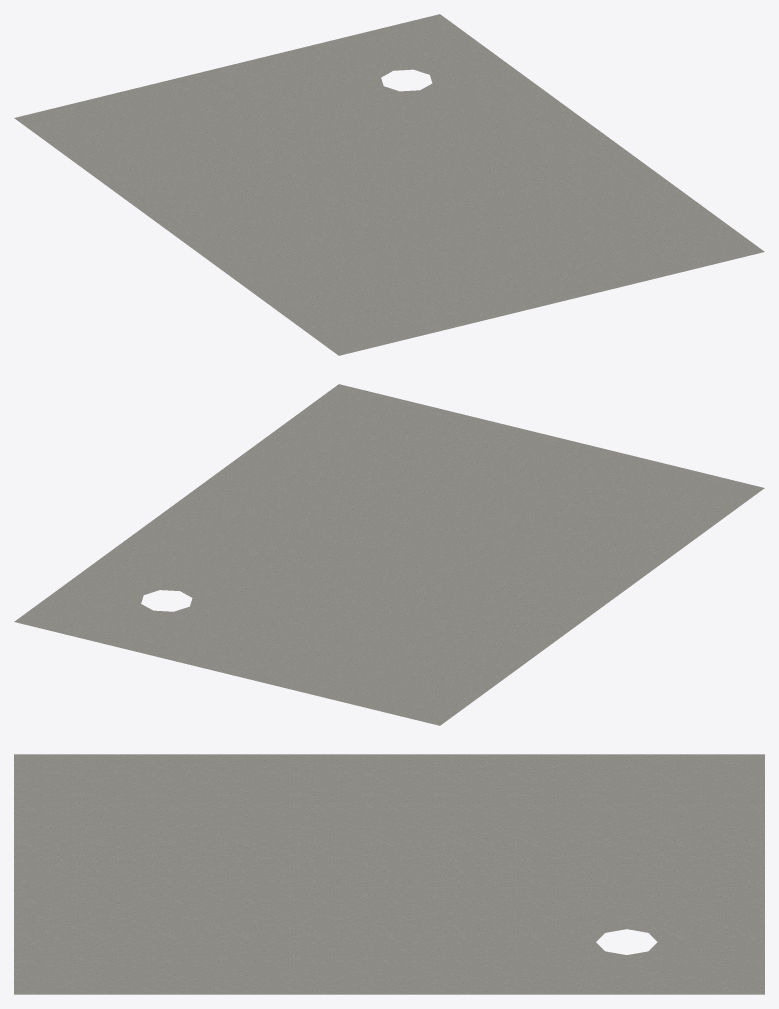
The model's file is kd_stage_135b75_4_19_bounded_piece_1.glb.
3 views of the same model, one above another, from view 1: azimuth 30°, elevation 25°; view 2: azimuth 150°, elevation 25°; view 3: azimuth 270°, elevation 25° (orthographic). The views are drawn at different scales.
Parts seen in each view (by area): view 1: kd_stage_135b75_4_19_bounded_piece_1; view 2: kd_stage_135b75_4_19_bounded_piece_1; view 3: kd_stage_135b75_4_19_bounded_piece_1.
Boxes of the visible parts, x1,y1,x2,y2 form: kd_stage_135b75_4_19_bounded_piece_1: [14, 14, 764, 355]; kd_stage_135b75_4_19_bounded_piece_1: [14, 384, 764, 725]; kd_stage_135b75_4_19_bounded_piece_1: [14, 754, 764, 994].
Size of the model in its own units: 2.77 by 4.77e-07 by 3.66.
Materials: 1 (1 with a texture image).
